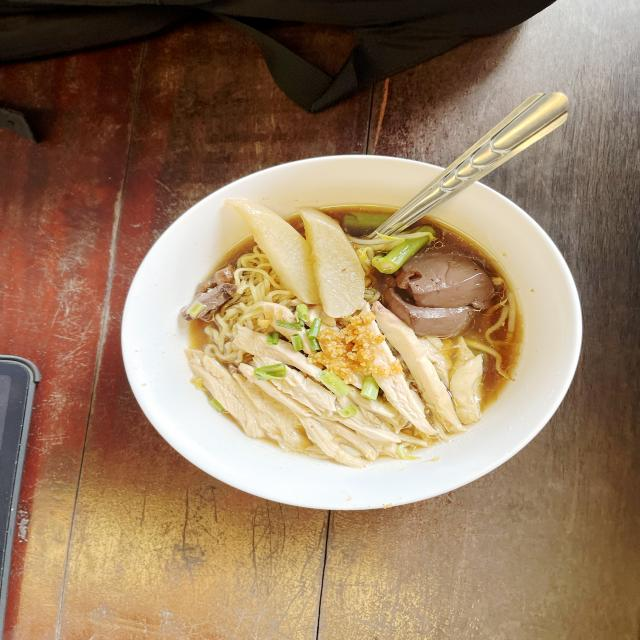boiled_chicken_blood_jelly: (387, 254, 484, 327)
chicken_shredded: (188, 302, 486, 451)
daikon_radish: (226, 197, 367, 322)
noodle: (162, 187, 568, 473)
